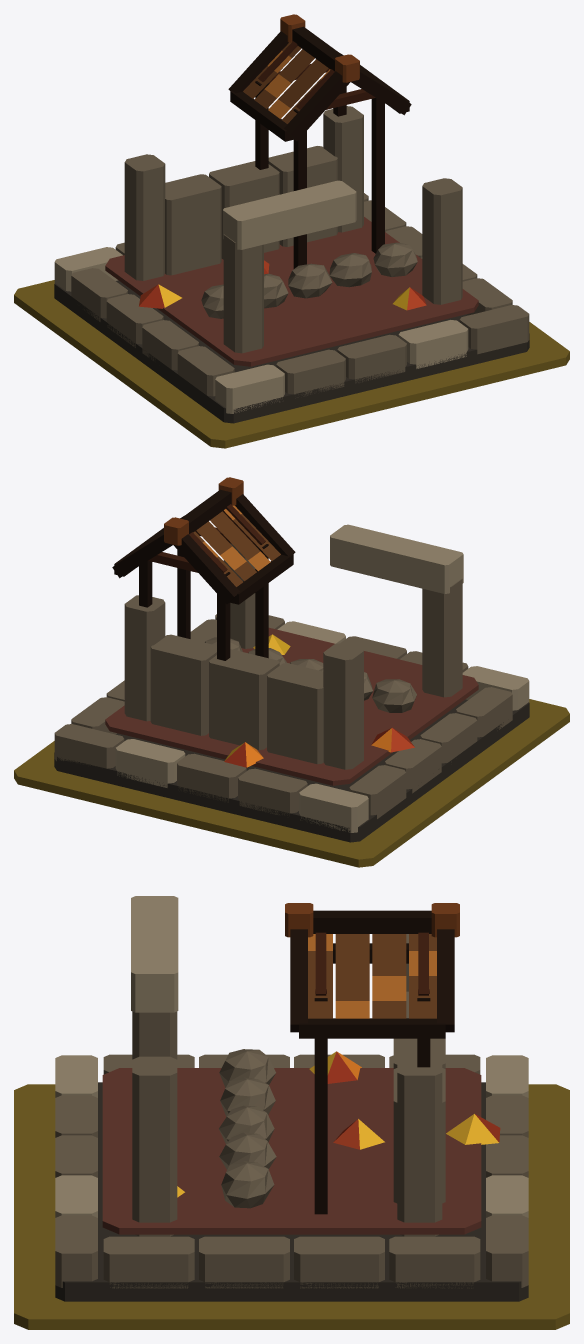
Rendered from sunken-chapel_t4.glb.
3 renders of one model, top to bottom at view 1: azimuth 30°, elevation 25°; view 2: azimuth 150°, elevation 25°; view 3: azimuth 270°, elevation 25°, orthographic. The views are drawn at different scales.
Parts seen in each view (by area): view 1: MMR | sunken-chapel | T04 Architecture.001, MMR | sunken-chapel | Tier 04 Ground.001, MMR | sunken-chapel | T04 Autumn Dressing.001; view 2: MMR | sunken-chapel | T04 Architecture.001, MMR | sunken-chapel | Tier 04 Ground.001, MMR | sunken-chapel | T04 Autumn Dressing.001; view 3: MMR | sunken-chapel | T04 Architecture.001, MMR | sunken-chapel | Tier 04 Ground.001, MMR | sunken-chapel | T04 Autumn Dressing.001.
Part boxes in pixels (left/top/right/bottom): MMR | sunken-chapel | T04 Architecture.001: left=54, top=14, right=529, bottom=423; MMR | sunken-chapel | Tier 04 Ground.001: left=14, top=280, right=569, bottom=448; MMR | sunken-chapel | T04 Autumn Dressing.001: left=139, top=260, right=426, bottom=310; MMR | sunken-chapel | T04 Architecture.001: left=54, top=477, right=529, bottom=842; MMR | sunken-chapel | Tier 04 Ground.001: left=14, top=699, right=569, bottom=867; MMR | sunken-chapel | T04 Autumn Dressing.001: left=224, top=634, right=414, bottom=767; MMR | sunken-chapel | T04 Architecture.001: left=55, top=896, right=528, bottom=1301; MMR | sunken-chapel | Tier 04 Ground.001: left=14, top=1084, right=569, bottom=1329; MMR | sunken-chapel | T04 Autumn Dressing.001: left=177, top=1051, right=500, bottom=1197.
Size of the model in its own units: 2.35 by 1.59 by 2.35.
Materials: 1 (1 with a texture image).
